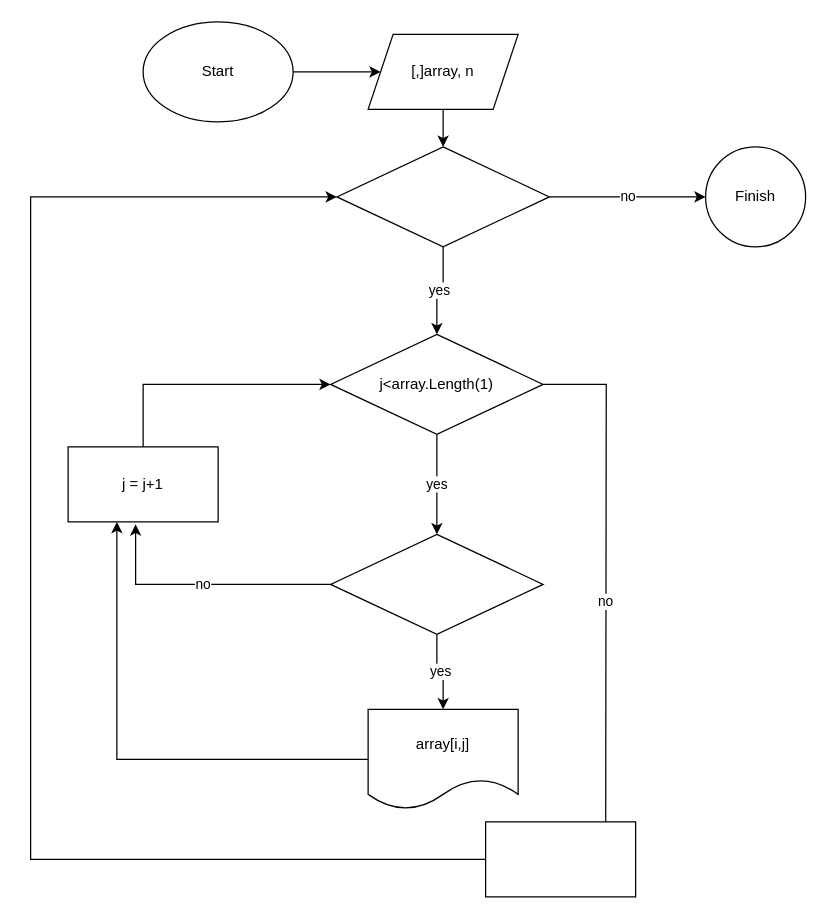
Some shapes in this 828 by 919 pixel diagram are drawn without their labels. Each missing label, with the box of its shape:
array[i,j]<=n: (329, 533, 543, 634)
i = i+1: (484, 821, 636, 897)
i<array.Length(0): (336, 146, 549, 247)
